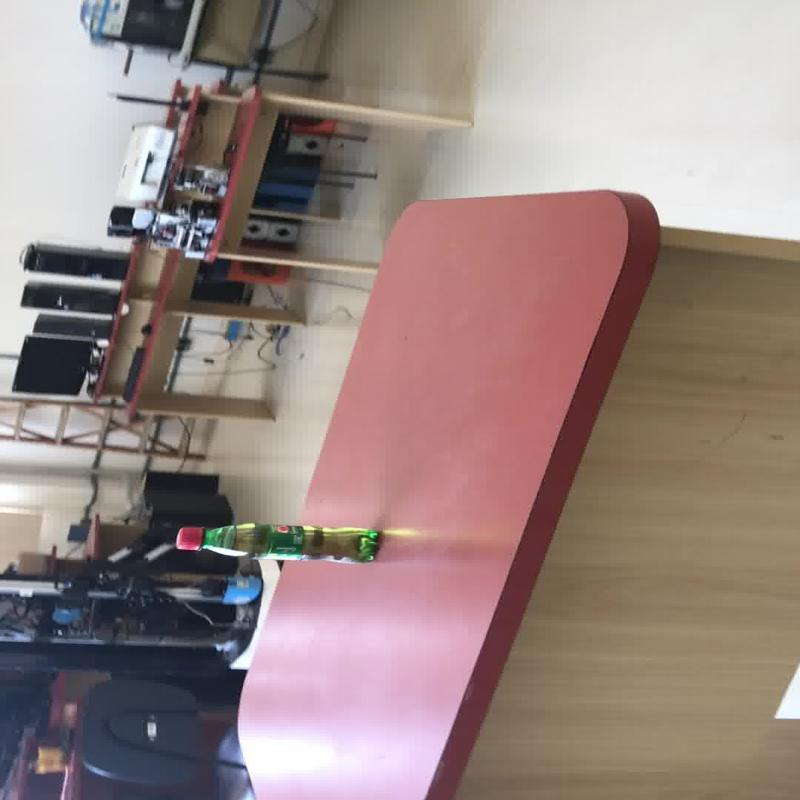guarana: (172, 521, 382, 563)
